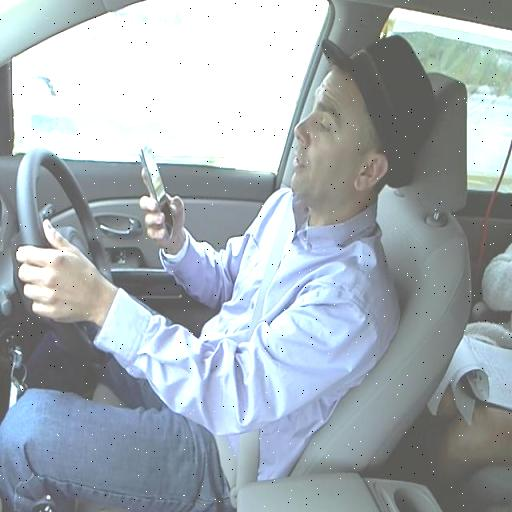texting_phone: (14, 59, 422, 454)
